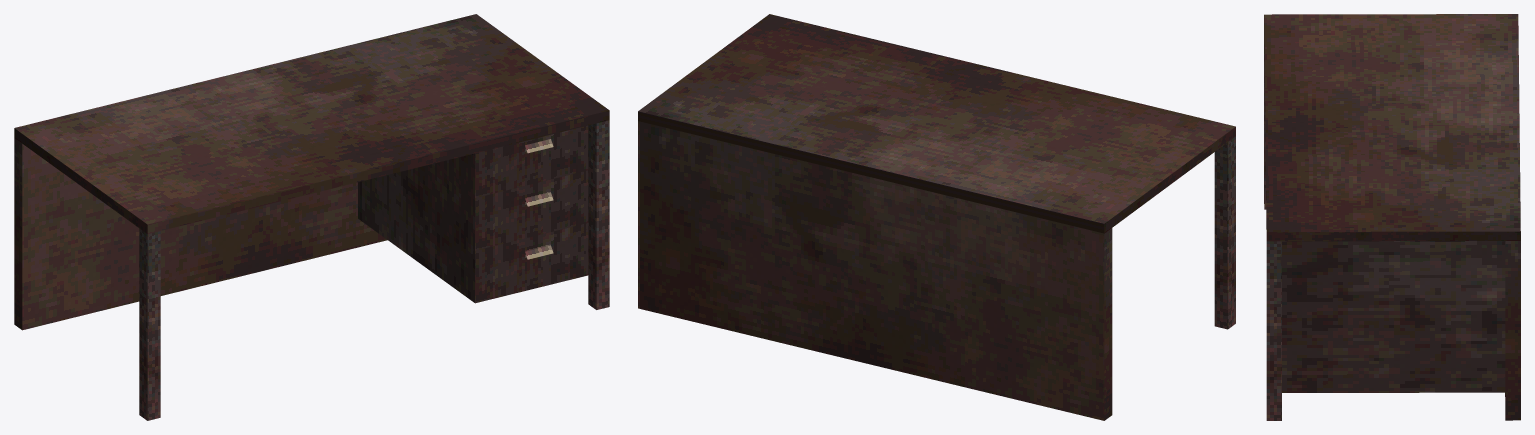
Rendered from desk2_alt3_weathered.glb.
3 renders of one model, left to right at view 1: azimuth 30°, elevation 25°; view 2: azimuth 150°, elevation 25°; view 3: azimuth 270°, elevation 25°, orthographic. The views are drawn at different scales.
Parts seen in each view (by area): view 1: desk2_alt3_weathered; view 2: desk2_alt3_weathered; view 3: desk2_alt3_weathered.
Part boxes in pixels (x1,y1,x2,y2): desk2_alt3_weathered: (14,14,609,420); desk2_alt3_weathered: (638,14,1235,420); desk2_alt3_weathered: (1264,14,1520,420).
Bounding box in the file's own units: 2.21 × 0.8911 × 1.1.
Materials: 1 (1 with a texture image).
